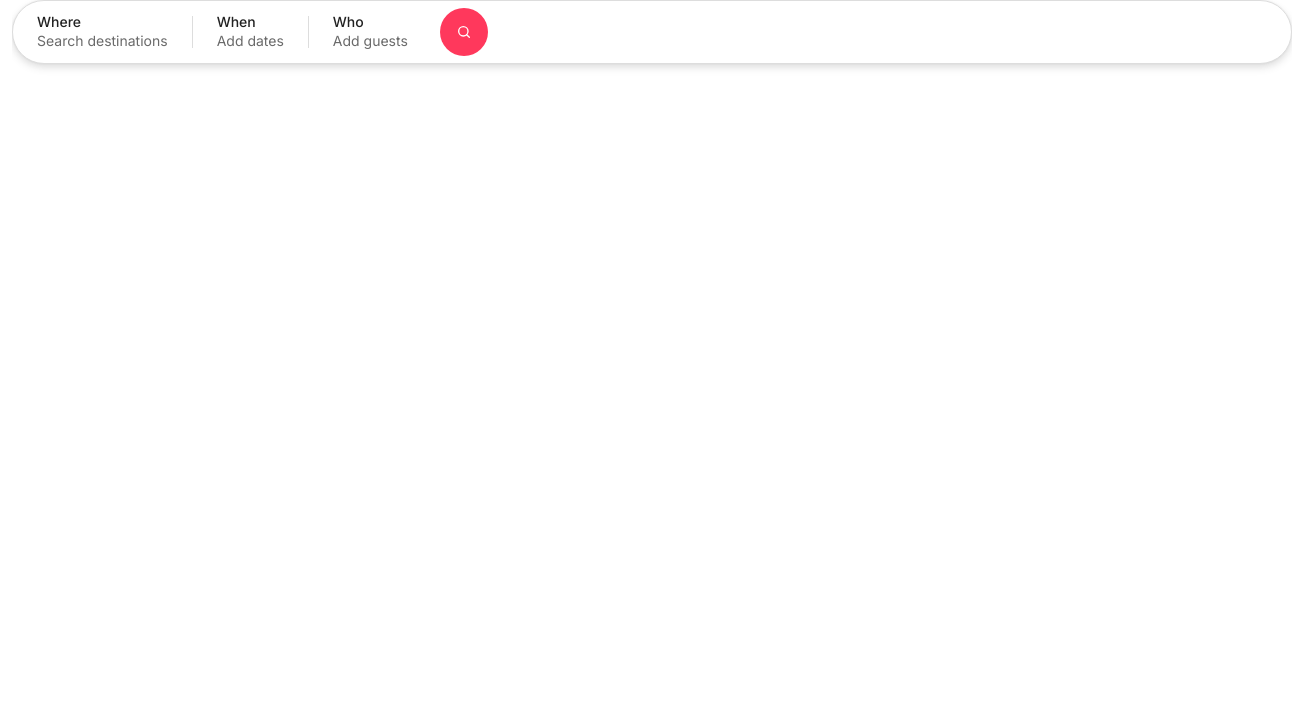
Test: HomeSearchBar › Escape closes the open panel
Click the button "Where Search destinations". click: coordinates (102, 32)
box: [13,5,192,59]
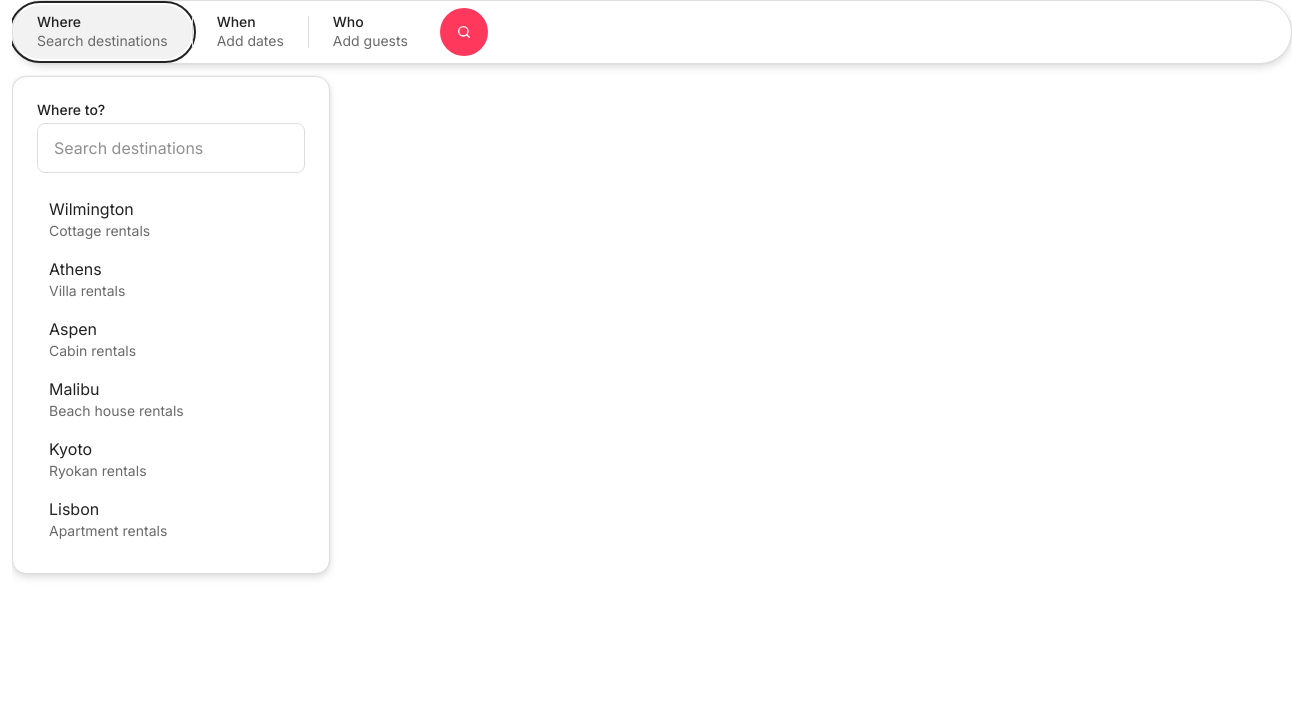
Expected: the field labelled "Where to?" is shown, [37,123,305,173]
Press Escape
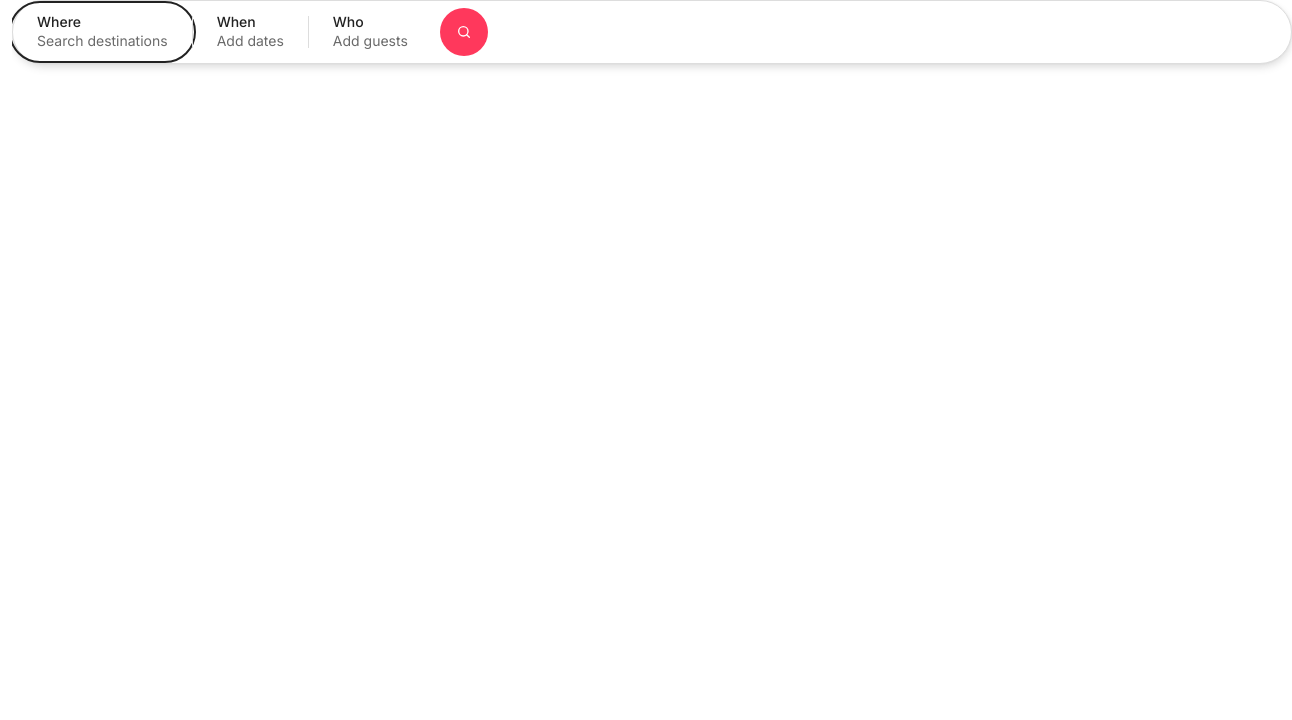
Expected: the text "Where to?" is gone
